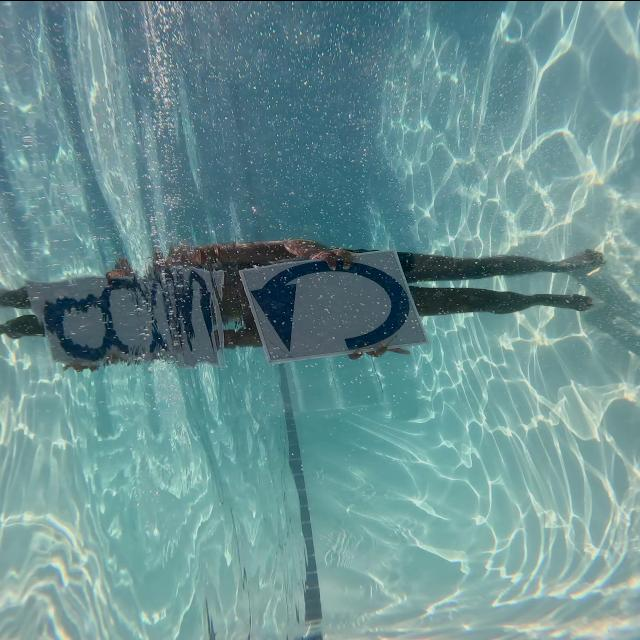blue_side: (233, 241, 434, 369)
